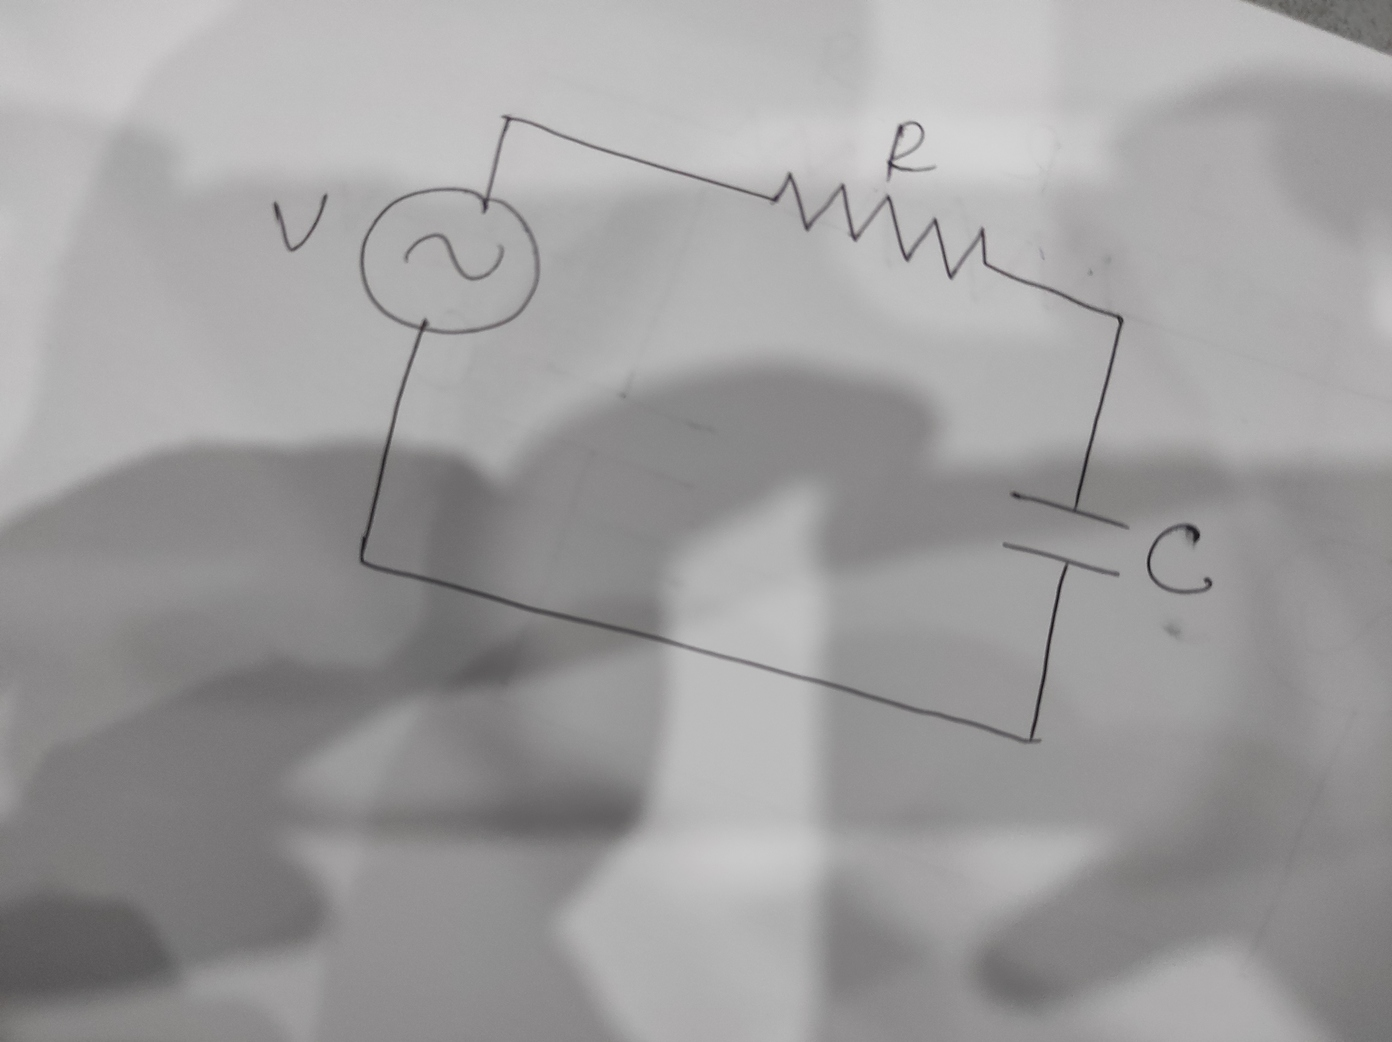capacitor.unpolarized: (994, 488, 1133, 582)
junction: (1016, 727, 1045, 752), (350, 547, 374, 575), (492, 108, 521, 131), (1105, 310, 1130, 329)
resistor: (767, 170, 993, 283)
text: (1142, 519, 1217, 601), (880, 118, 942, 185), (269, 190, 332, 255)
voltage.dc_ac: (353, 180, 544, 340)
